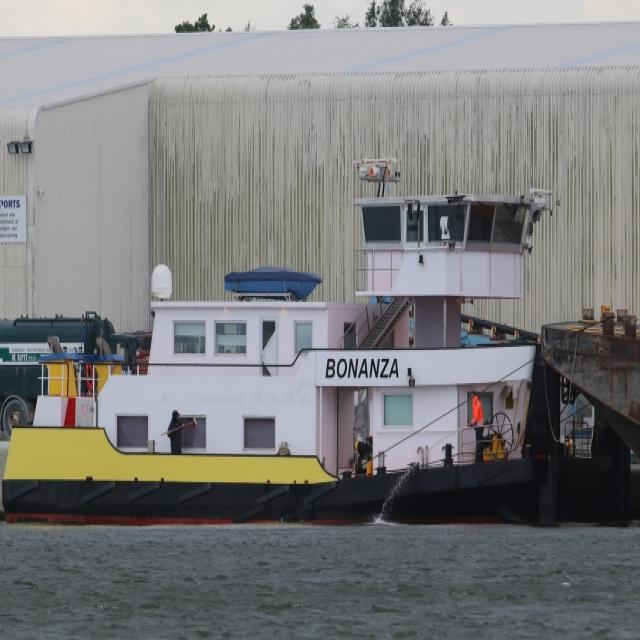tugboat: (1, 154, 640, 545)
